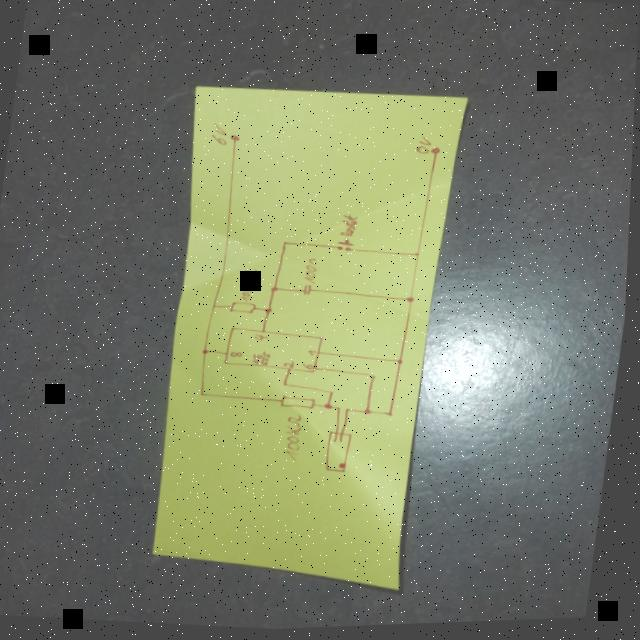capacitor: (303, 285, 316, 298)
junction: (407, 298, 418, 306), (270, 287, 281, 294), (326, 404, 335, 412), (365, 411, 375, 418), (266, 308, 276, 315), (371, 375, 380, 382), (203, 349, 212, 356), (398, 361, 406, 368), (389, 413, 397, 420), (283, 240, 290, 248), (415, 254, 422, 259), (202, 393, 209, 398), (347, 409, 353, 414), (338, 408, 344, 413), (330, 392, 336, 397), (285, 383, 291, 388), (213, 305, 219, 310)
resistor: (282, 396, 320, 412), (229, 302, 259, 317)
switch: (326, 433, 357, 476), (337, 240, 356, 254)
terminal: (229, 134, 242, 145), (430, 149, 442, 158)
text: (286, 416, 308, 463), (241, 269, 259, 304), (341, 216, 360, 239), (211, 124, 229, 147), (305, 259, 320, 286), (415, 138, 433, 157), (253, 351, 273, 368), (255, 333, 271, 343), (231, 351, 245, 359), (285, 361, 297, 370), (304, 364, 316, 372), (309, 351, 320, 358)
